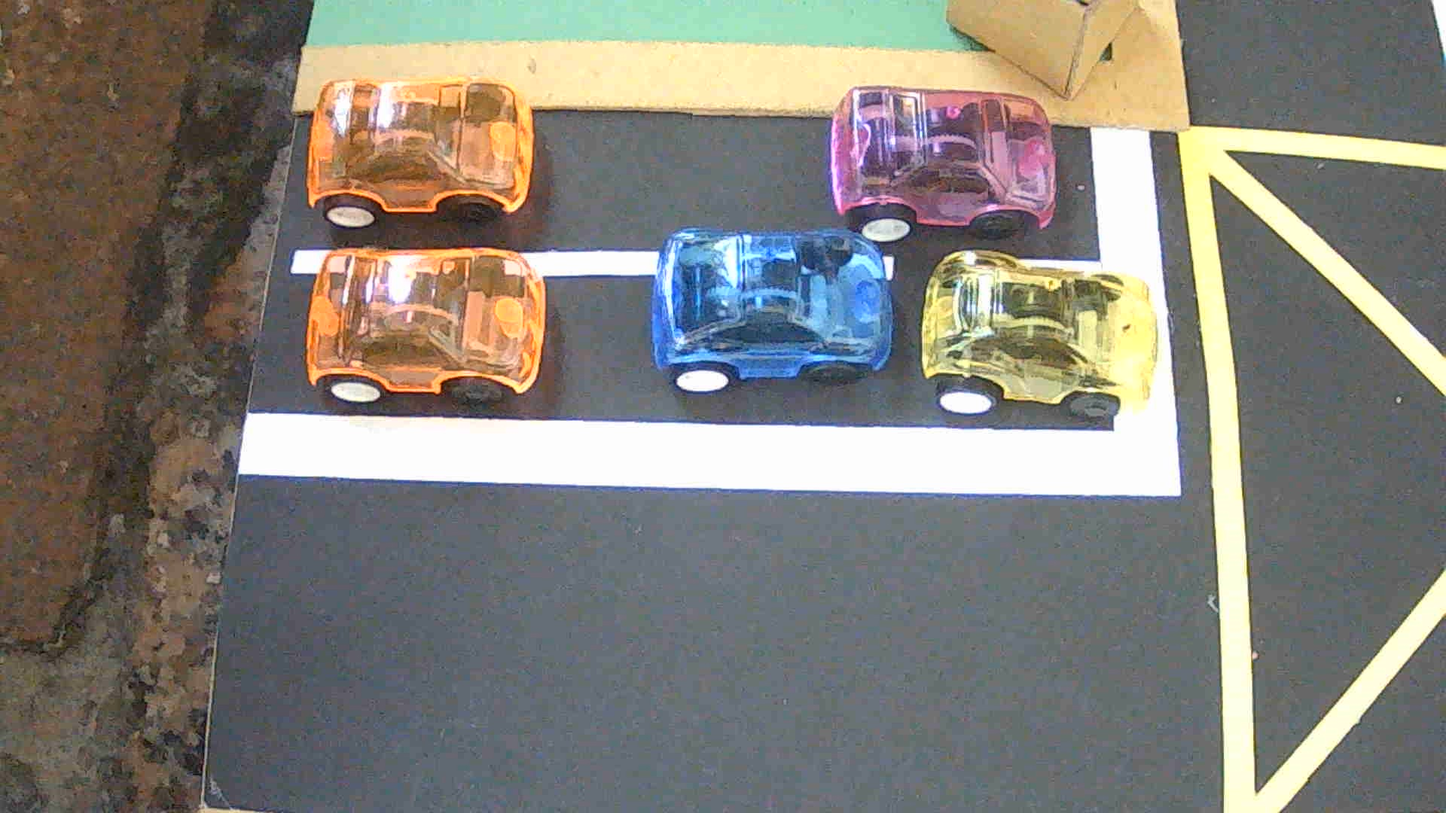Mobil biru: (651, 229, 892, 392)
Mobil kuning: (922, 251, 1157, 419)
Mobil orange: (305, 248, 545, 404), (307, 78, 533, 229)
Mobil ungu: (831, 86, 1056, 242)
